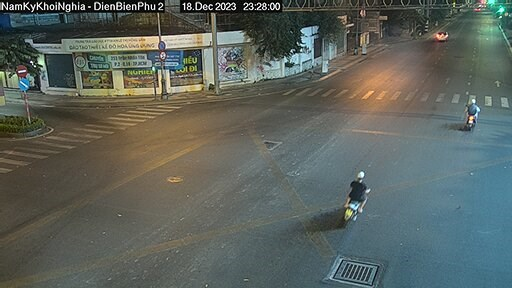car: (436, 31, 448, 44)
motorbike: (345, 172, 368, 226), (464, 95, 480, 132)
